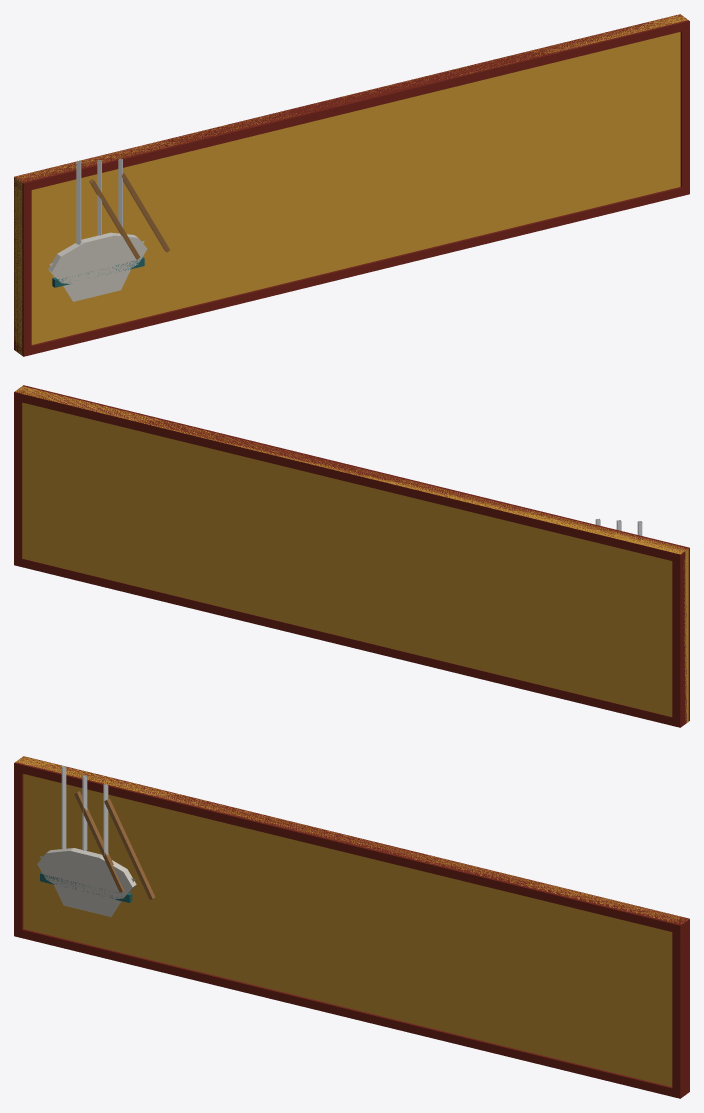
File: bang_pho_ba_tam_32.glb
The picture shows the model from 3 angles, top to bottom: view 1: azimuth 30°, elevation 25°; view 2: azimuth 150°, elevation 25°; view 3: azimuth 330°, elevation 25°; orthographic projection.
Visible parts, largest first — view 1: bang_pho_ba_tam_32; view 2: bang_pho_ba_tam_32; view 3: bang_pho_ba_tam_32.
Boxes of the visible parts, <box> form: bang_pho_ba_tam_32: <box>14,14,689,356</box>; bang_pho_ba_tam_32: <box>14,385,689,727</box>; bang_pho_ba_tam_32: <box>14,756,689,1098</box>.
Size of the model in its own units: 2.9 by 0.766 by 0.1024.
